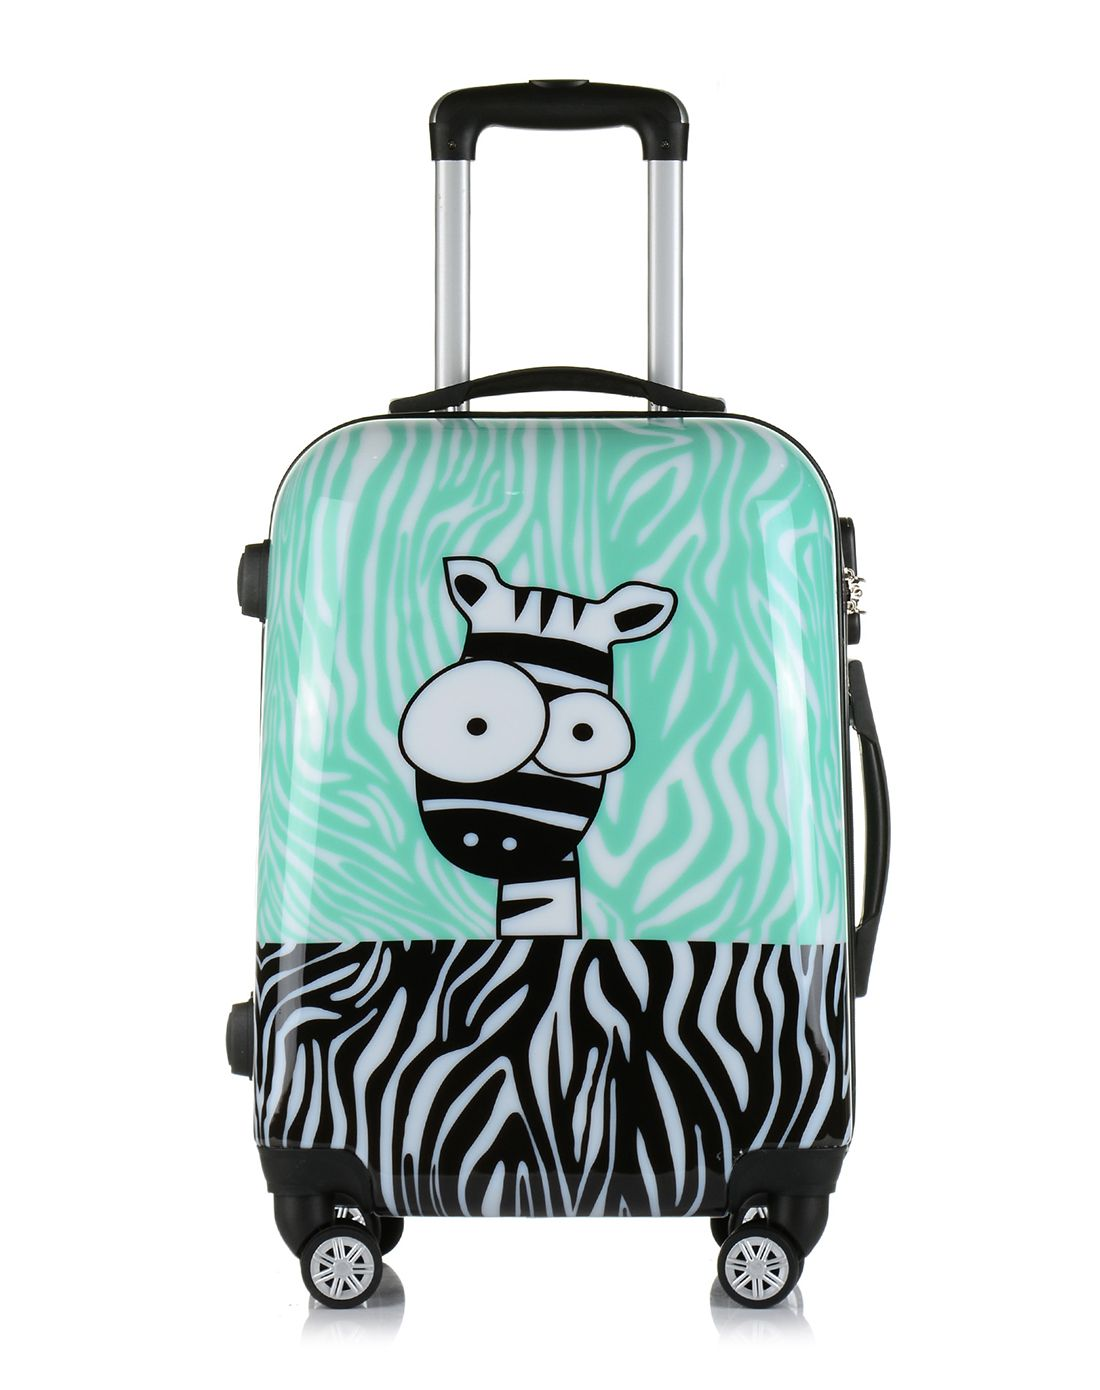luggage: (225, 74, 894, 1311)
